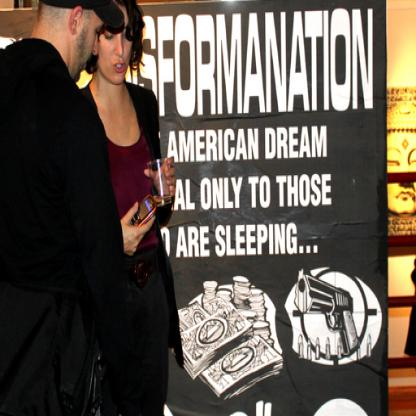gun: (295, 267, 360, 356)
